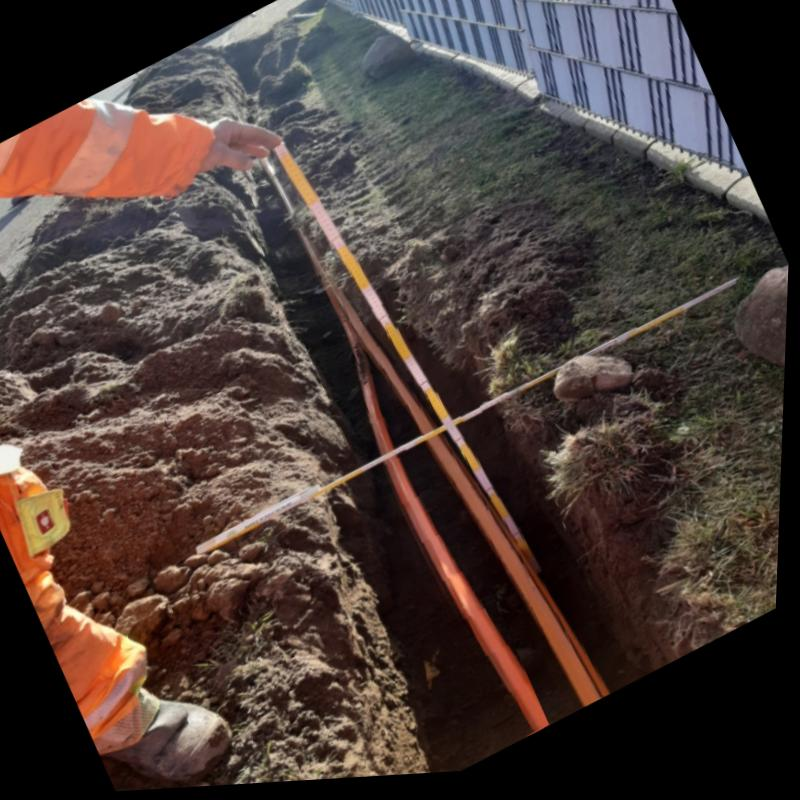Orang-Speednetrohrchen: (346, 321, 613, 714), (357, 362, 555, 740)
